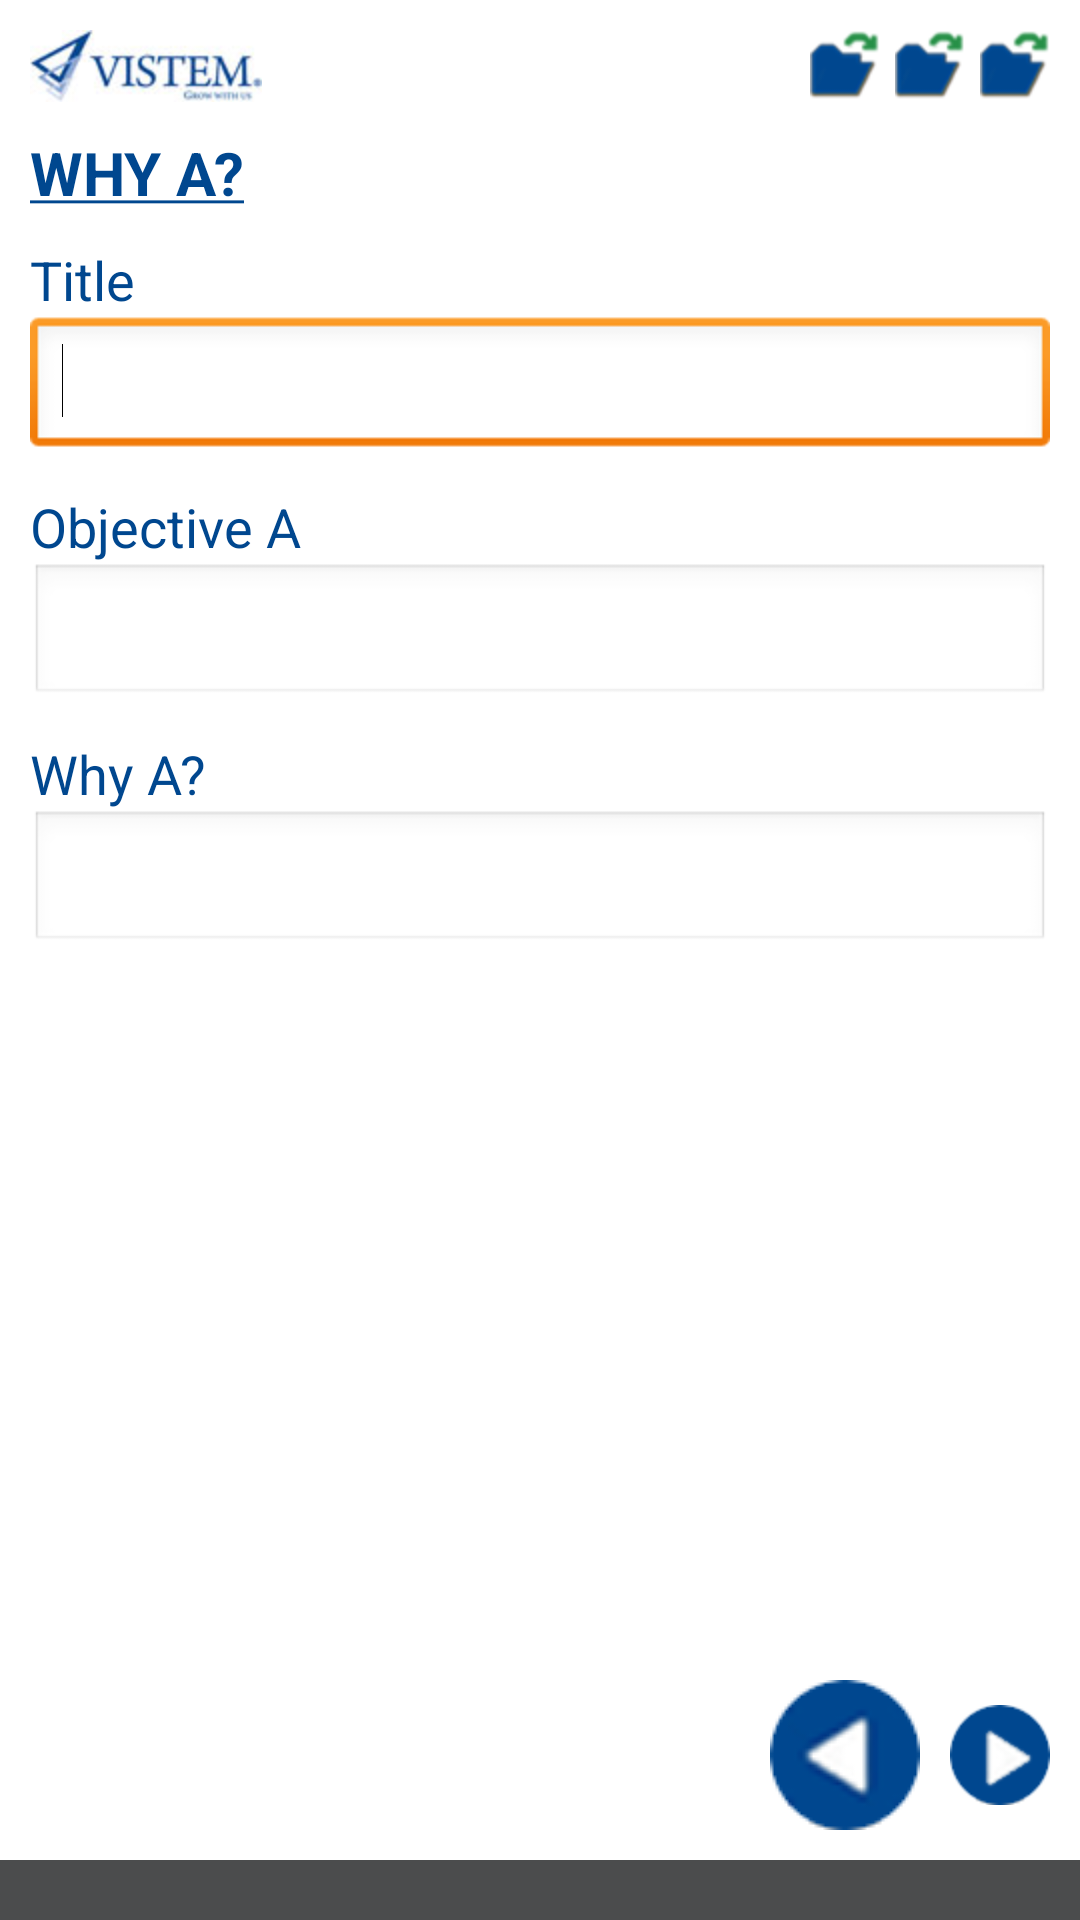

Icon bounding boxes for this 1080x1920 phone screenshot, format (x1, y1, x2, y2):
back: (770, 1680, 920, 1830)
next: (950, 1705, 1050, 1805)
openconflict: (810, 32, 879, 98), (895, 32, 964, 98), (980, 32, 1049, 98)
